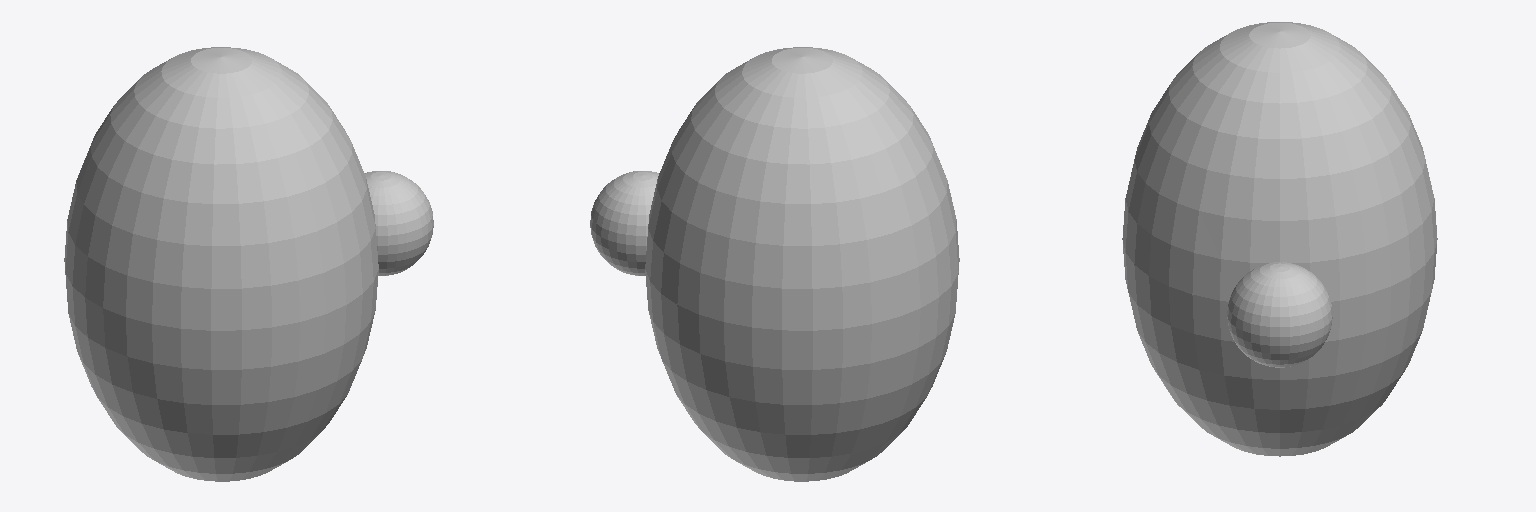
File: body.obj
3 views of the same model, side by side, from view 1: azimuth 30°, elevation 25°; view 2: azimuth 150°, elevation 25°; view 3: azimuth 270°, elevation 25° (orthographic).
Parts seen in each view (by area): view 1: BodyNose_Sphere.001; view 2: BodyNose_Sphere.001; view 3: BodyNose_Sphere.001.
Part boxes in pixels (x1,y1,x2,y2): BodyNose_Sphere.001: (64,47,433,481); BodyNose_Sphere.001: (590,47,959,481); BodyNose_Sphere.001: (1122,22,1437,456).
Size of the model in its own units: 0.5236 by 0.608 by 0.4181.